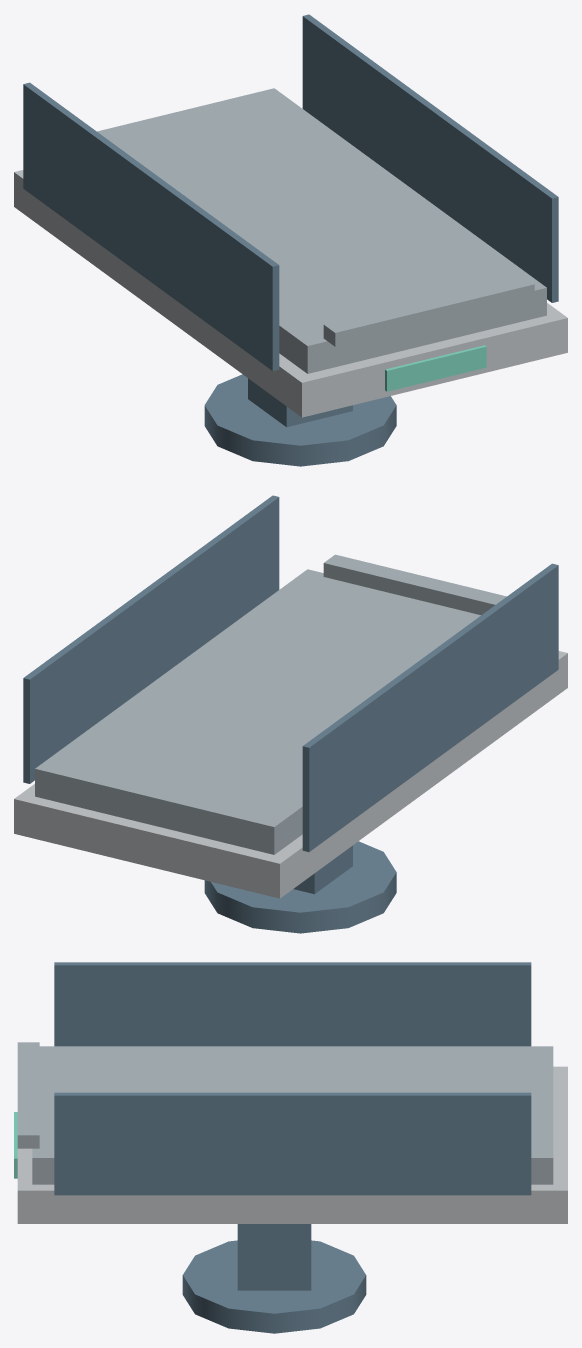
File: med_med_bed.glb
3 views of the same model, one above another, from view 1: azimuth 30°, elevation 25°; view 2: azimuth 150°, elevation 25°; view 3: azimuth 270°, elevation 25° (orthographic). The views are drawn at different scales.
Parts seen in each view (by area): view 1: sw5e_int_med_med_bed; view 2: sw5e_int_med_med_bed; view 3: sw5e_int_med_med_bed.
Boxes of the visible parts, x1,y1,x2,y2 form: sw5e_int_med_med_bed: (14,14,567,466); sw5e_int_med_med_bed: (14,495,567,933); sw5e_int_med_med_bed: (14,962,567,1333).
Bounding box in the file's own units: 0.86 × 0.8 × 1.51.
